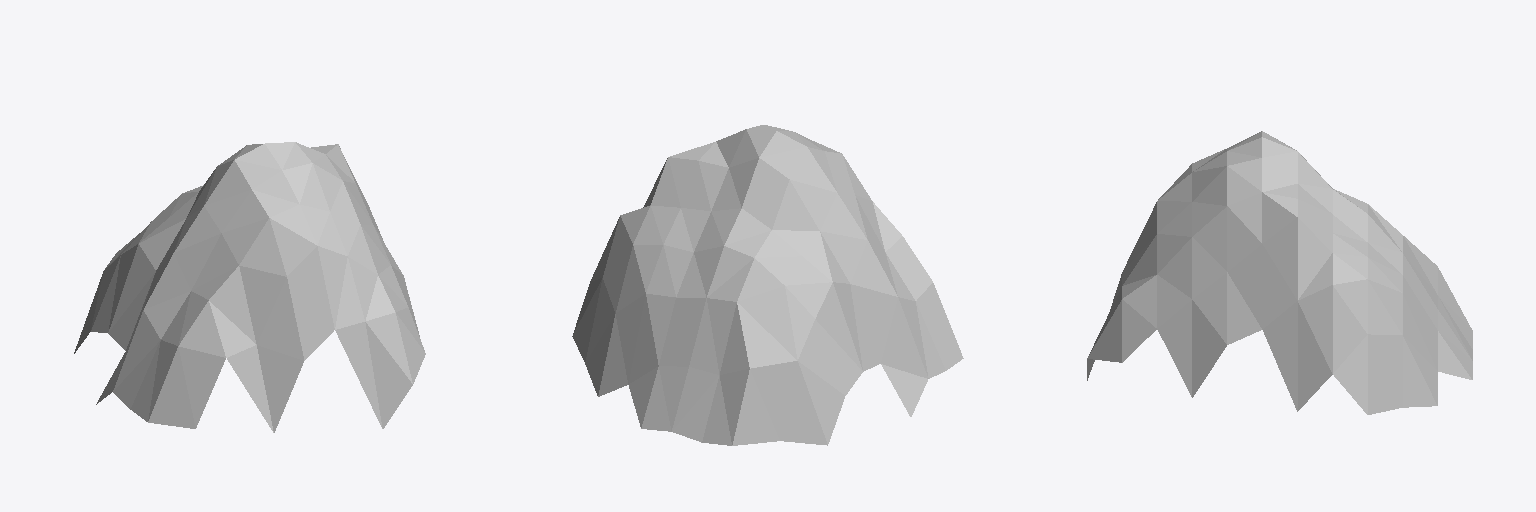
Rendered from tree_15.obj.
3 views of the same model, side by side, from view 1: azimuth 30°, elevation 25°; view 2: azimuth 150°, elevation 25°; view 3: azimuth 270°, elevation 25° (orthographic).
Parts seen in each view (by area): view 1: tree_15.001; view 2: tree_15.001; view 3: tree_15.001.
Part boxes in pixels (left/top/right/bottom): tree_15.001: left=74, top=142, right=425, bottom=432; tree_15.001: left=572, top=125, right=963, bottom=445; tree_15.001: left=1087, top=131, right=1472, bottom=414.
Bounding box in the file's own units: 10 × 7.48 × 11.